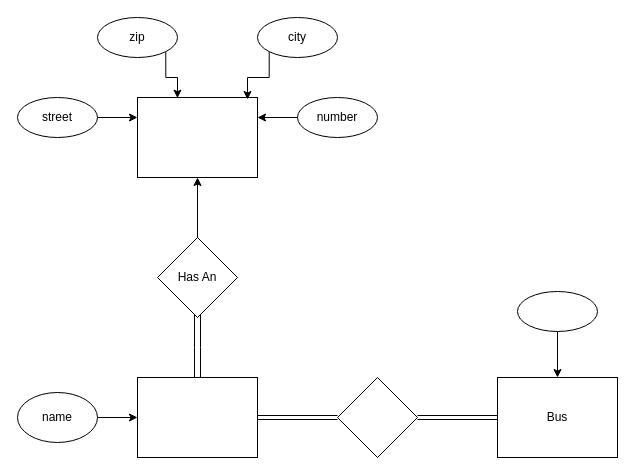
This 635x475 diagram has some shape labels left out. Each missing label, with the centre of its shape:
"Address" goes at point (197, 137).
"line number" goes at point (557, 311).
"Stop" goes at point (197, 417).
"Stops at" goes at point (377, 417).
